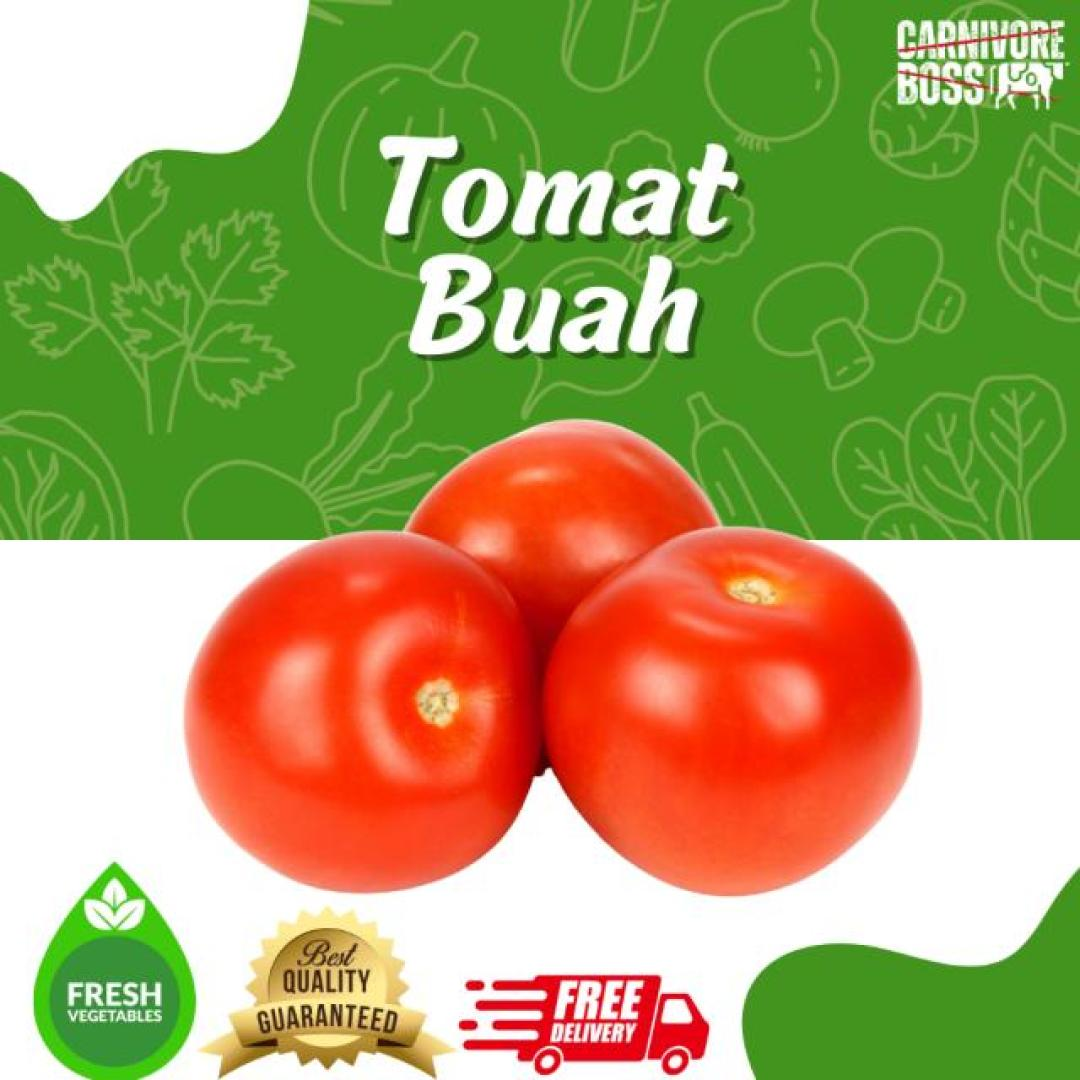matang: (545, 525, 921, 896), (183, 528, 544, 893)
